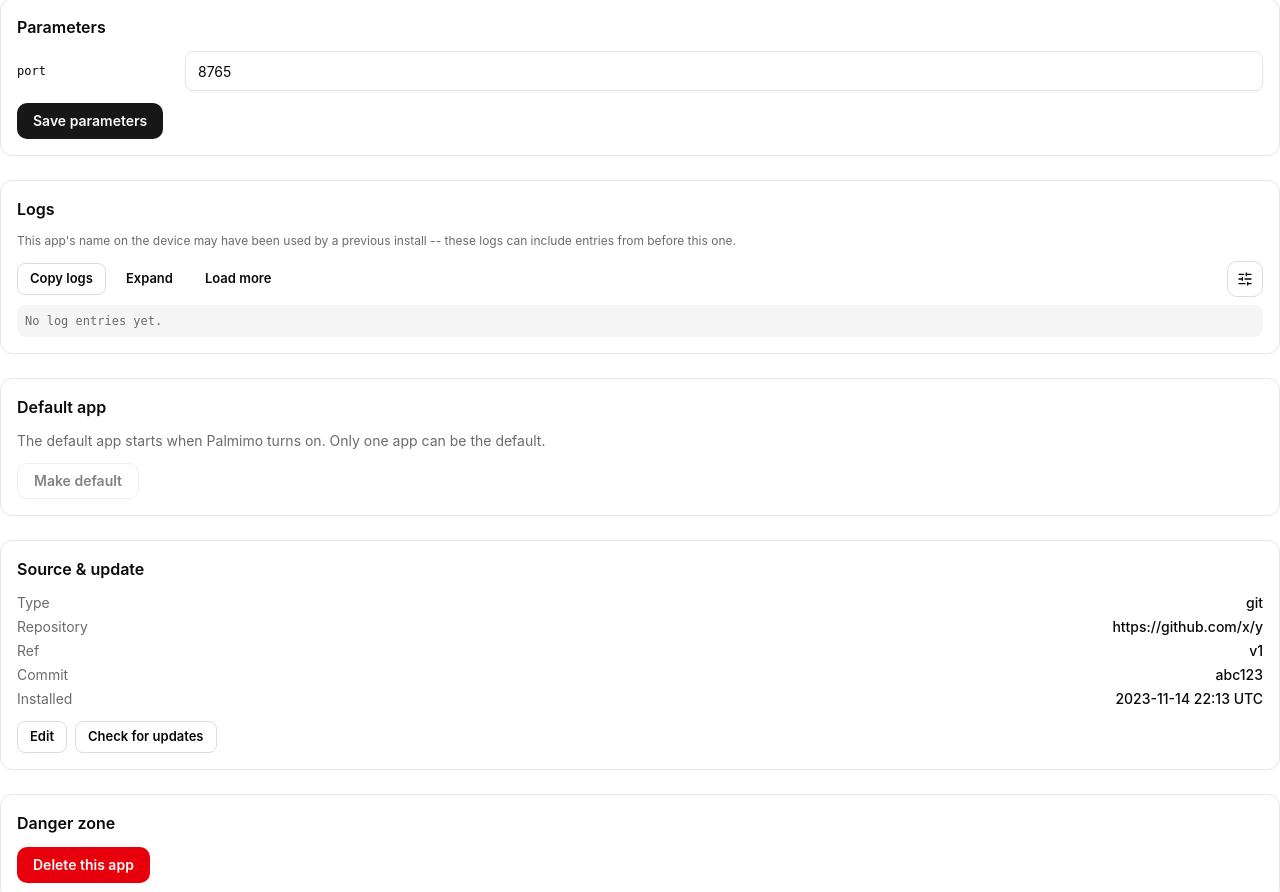
Test case: AppDetailPanel › shows the updated source and removes the update action when an update job finishes
The image size is (1280, 892).
(page scrolled)
Step 1. Click the button "Check for updates" → (146, 737), box x1=75 y1=721 x2=216 y2=753
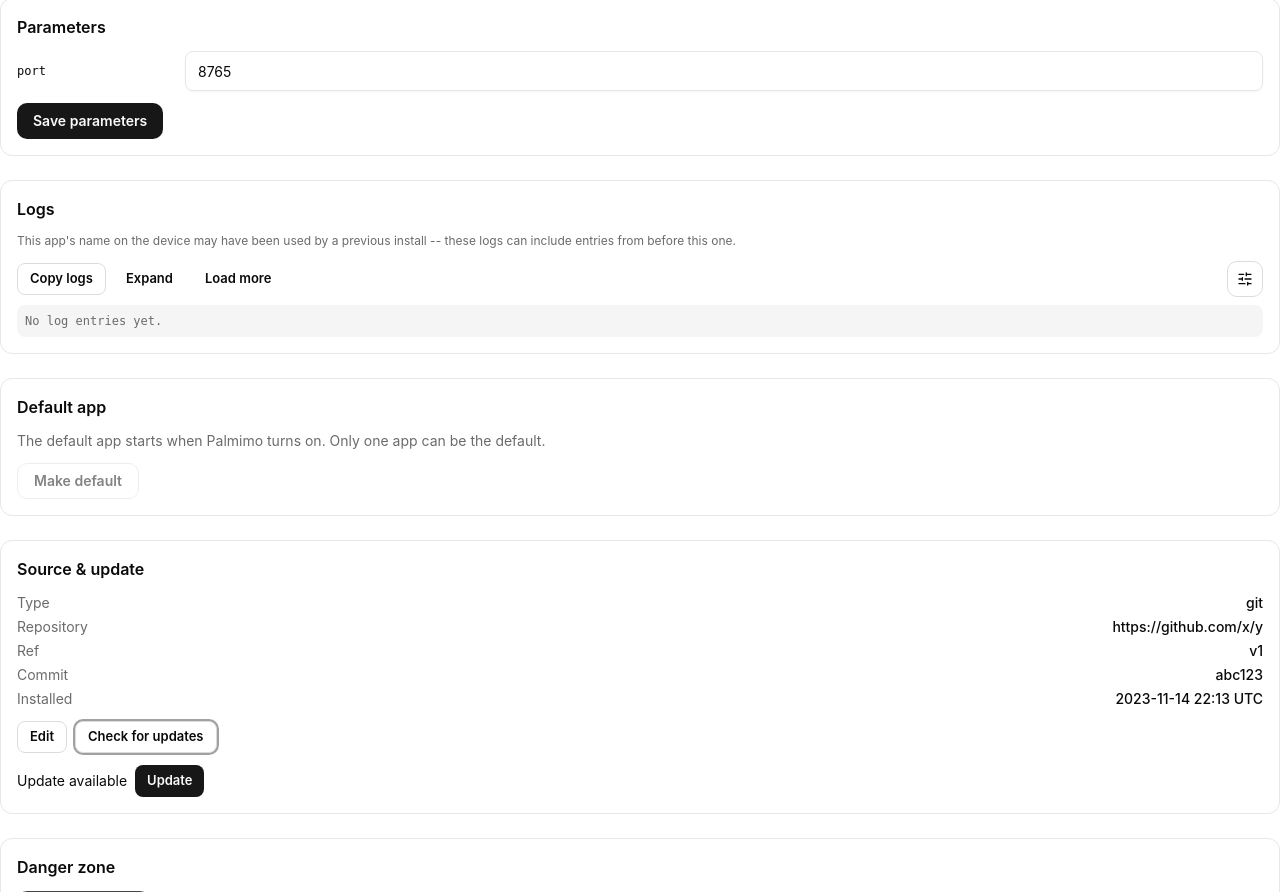
Step 2. Click the button "Update" → (170, 781), box x1=135 y1=765 x2=204 y2=797
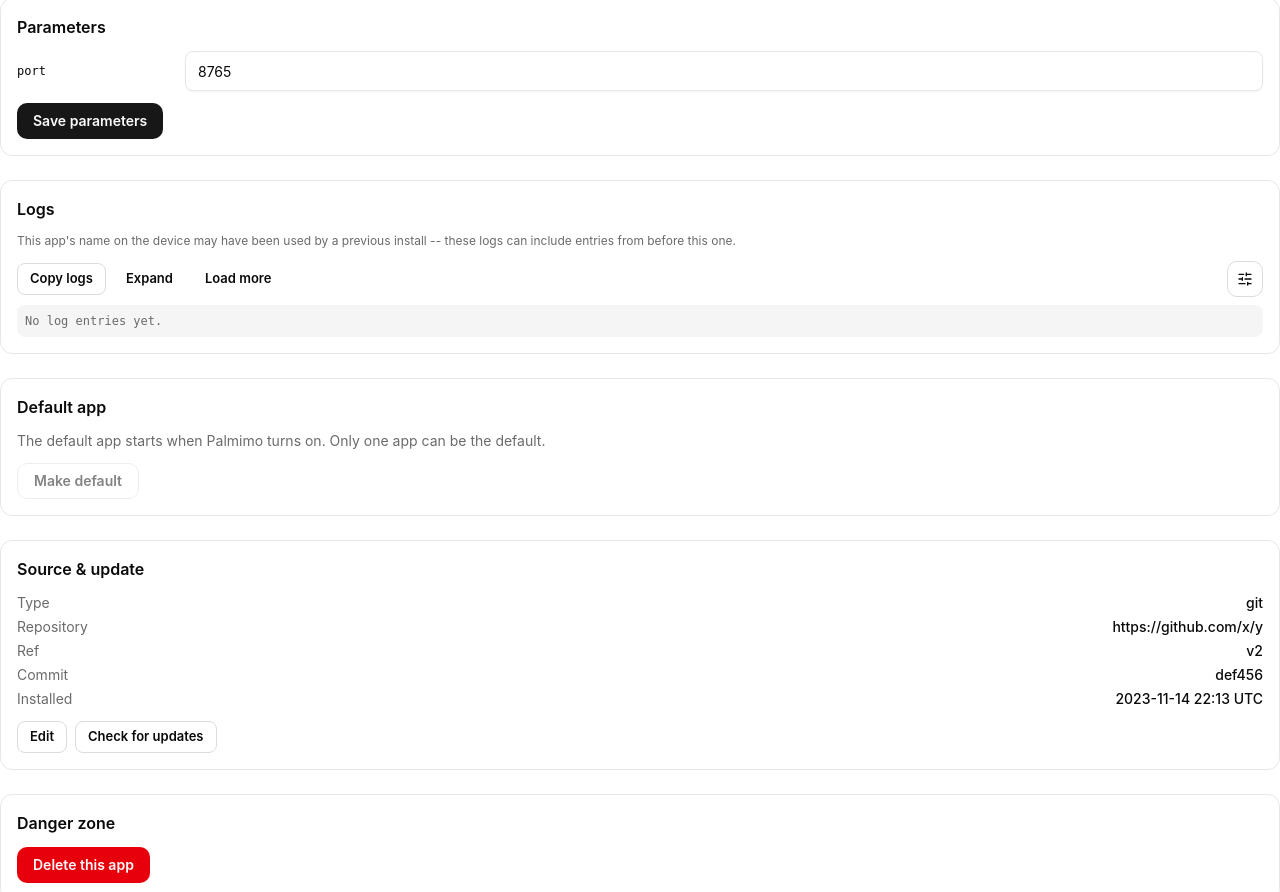
Check: the text "v2" is shown, box x1=1246 y1=641 x2=1263 y2=661
